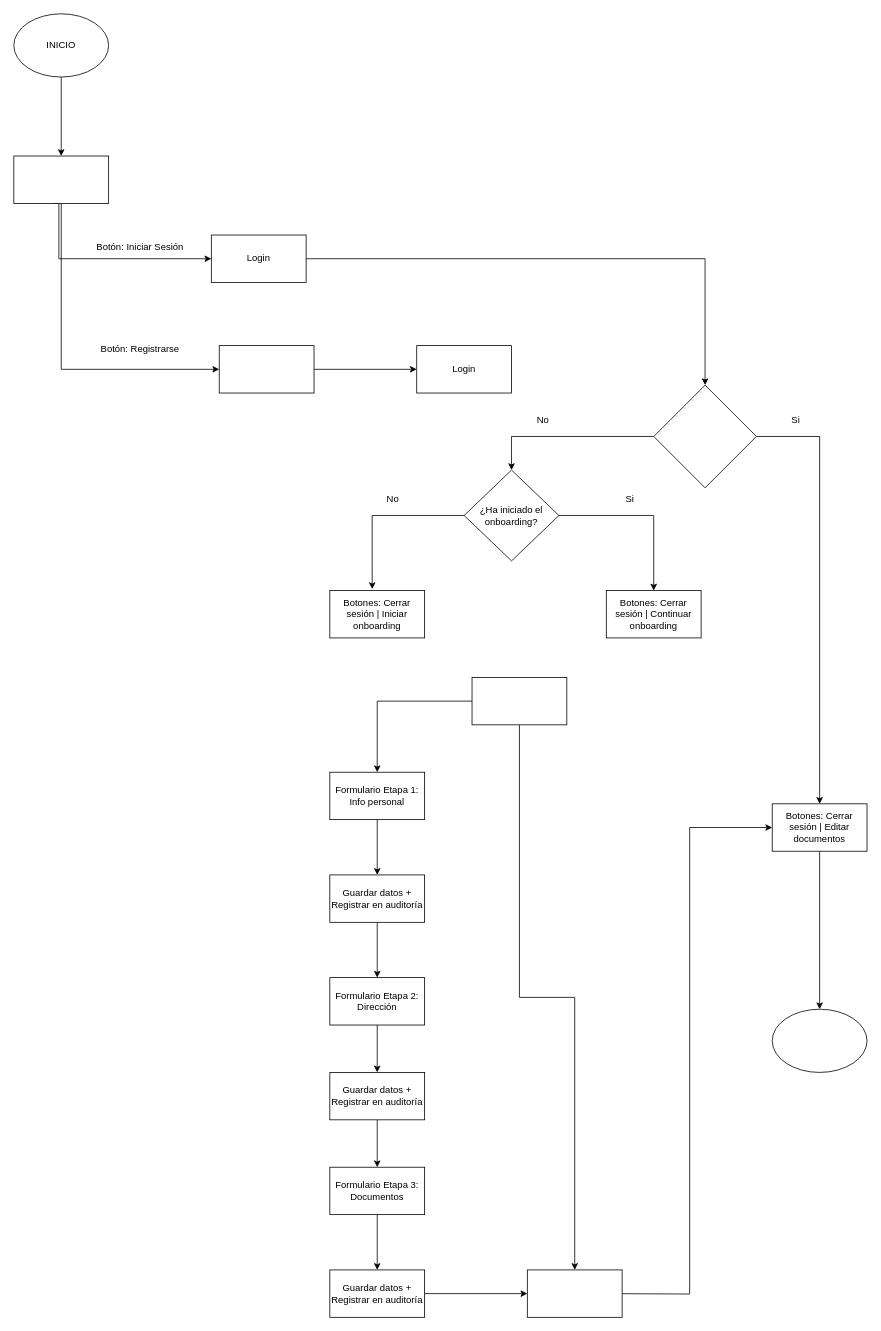
This 881x1331 diagram has some shape labels left out. The shapes that lost their labels are listed below. From the top down, each one's box as (x1, y1, x2, y2) in pixels, then its label:
(13, 155, 109, 203): Landing Page
(218, 345, 314, 393): Registro
(653, 384, 756, 488): ¿Usuario ha completado el onboarding?
(471, 677, 567, 725): INICIO DE ONBOARDING
(771, 1008, 867, 1072): FIN
(527, 1269, 622, 1317): Onboarding Completado
